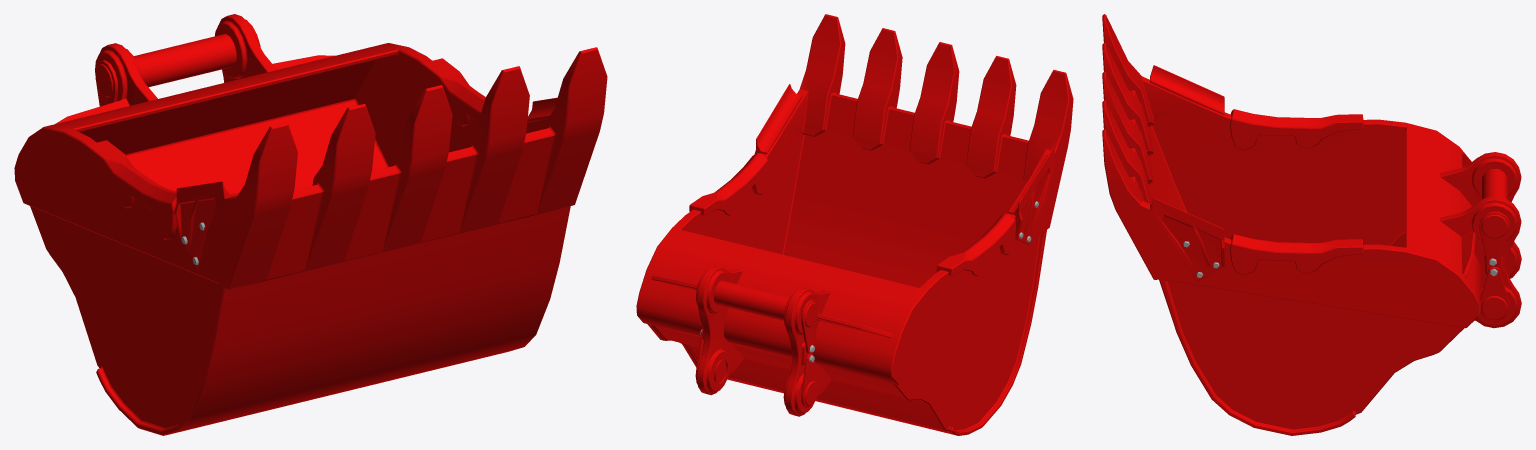
The model's file is ExcavatorMachine_Bucket_01a_snaps005.fbx.
The picture shows the model from 3 angles, left to right: view 1: azimuth 30°, elevation 25°; view 2: azimuth 150°, elevation 25°; view 3: azimuth 270°, elevation 25°; orthographic projection. The views are drawn at different scales.
Visible parts, largest first — view 1: ExcavatorMachine_Bucket_01a_snaps005; view 2: ExcavatorMachine_Bucket_01a_snaps005; view 3: ExcavatorMachine_Bucket_01a_snaps005.
Part boxes in pixels (left/top/right/bottom): ExcavatorMachine_Bucket_01a_snaps005: left=14, top=14, right=607, bottom=435; ExcavatorMachine_Bucket_01a_snaps005: left=636, top=14, right=1073, bottom=435; ExcavatorMachine_Bucket_01a_snaps005: left=1102, top=14, right=1521, bottom=435.
Size of the model in its own units: 151 by 155 by 198.
